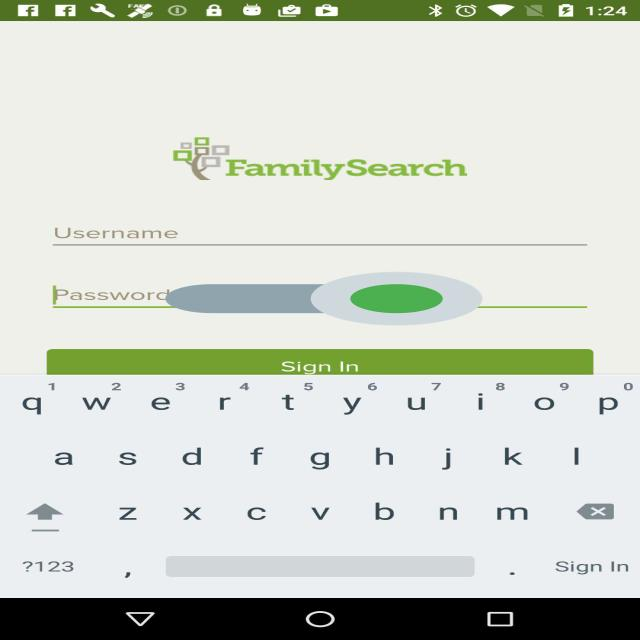social proof: (165, 249, 482, 348)
